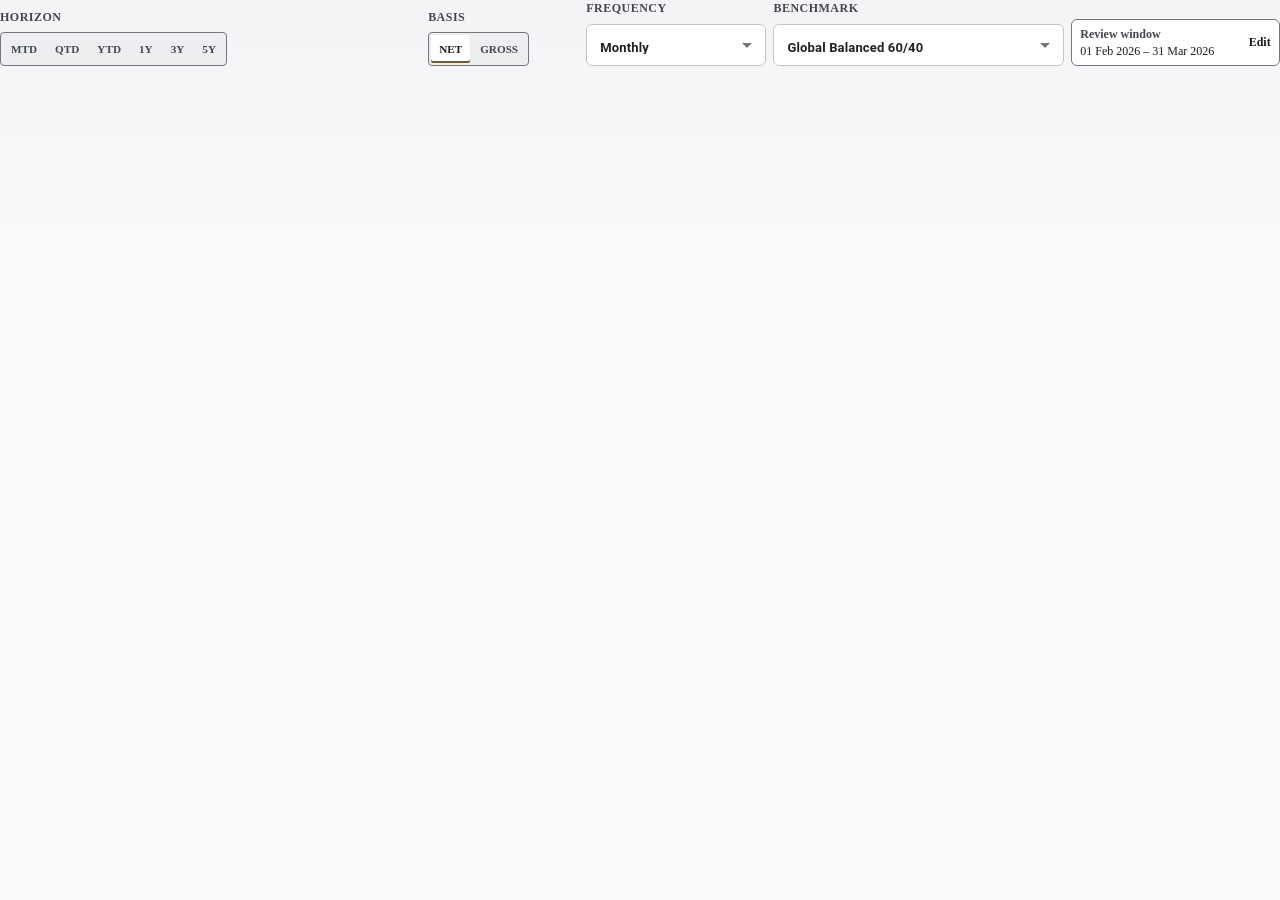
Scenario: PerformanceSourceSelectionControls › closes an unchanged explicit window without issuing a redundant request
The width and height of the screenshot is (1280, 900).
Click the button "Review window 01 Feb 2026 – 31 Mar 2026" at (1176, 43), box [1071, 19, 1279, 66]
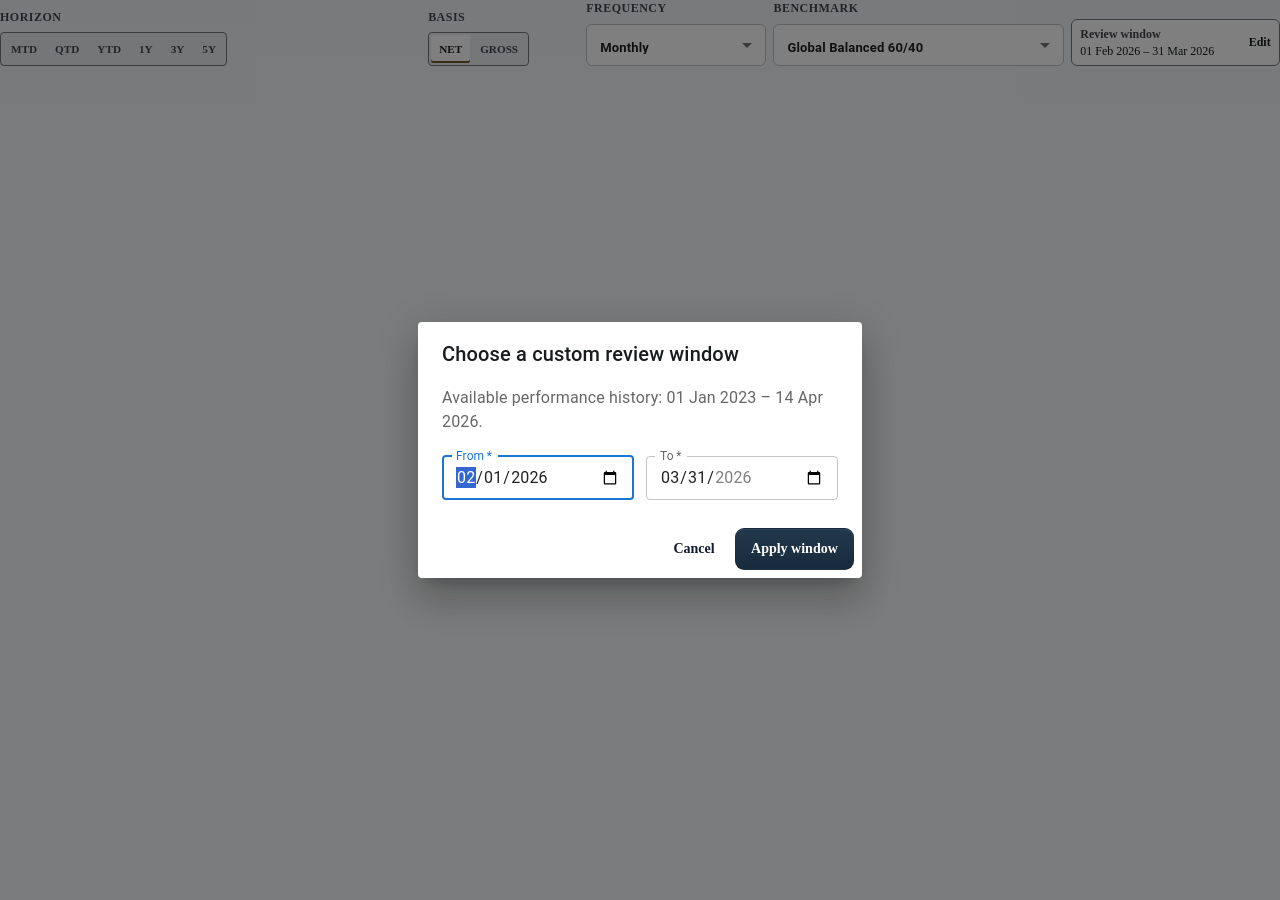
Click the button "Apply window" at (794, 549), box [735, 528, 854, 570]
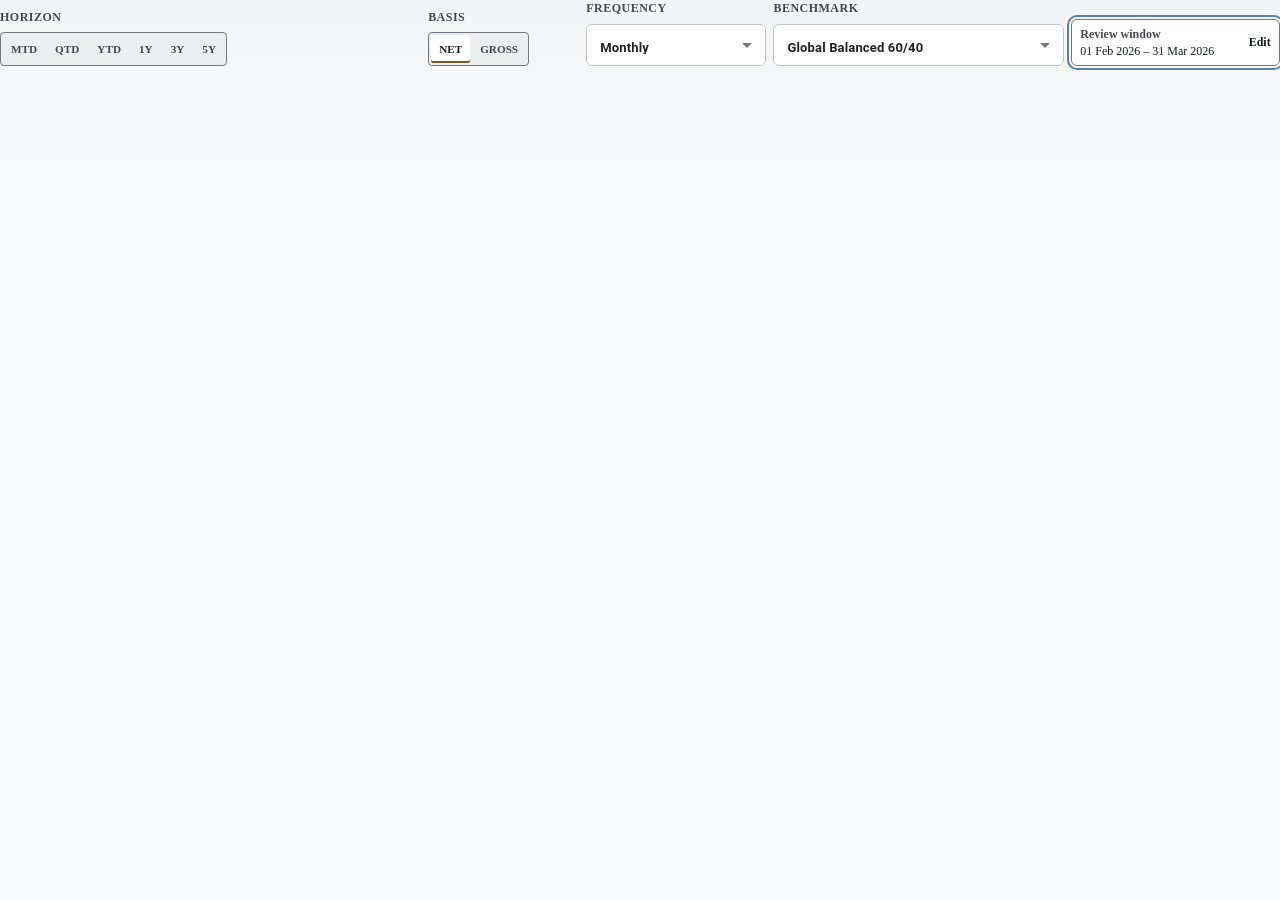
Expected: the dialog is gone
